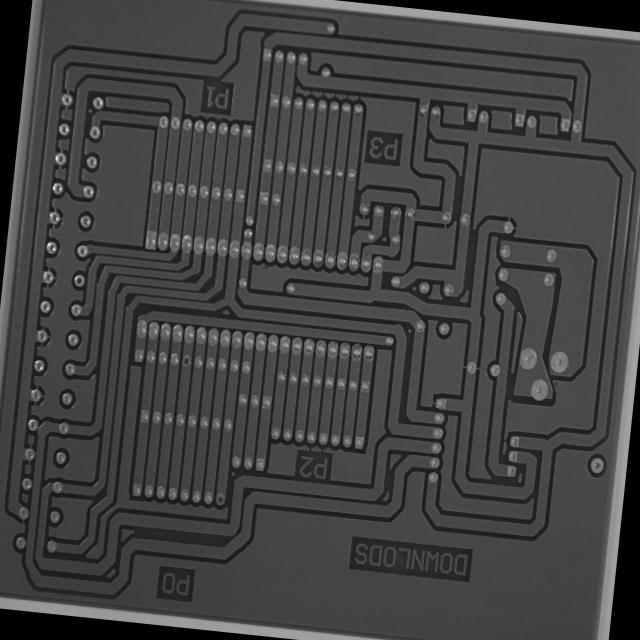missing_hole: (180, 350, 193, 370), (72, 270, 86, 288), (215, 490, 228, 508)
